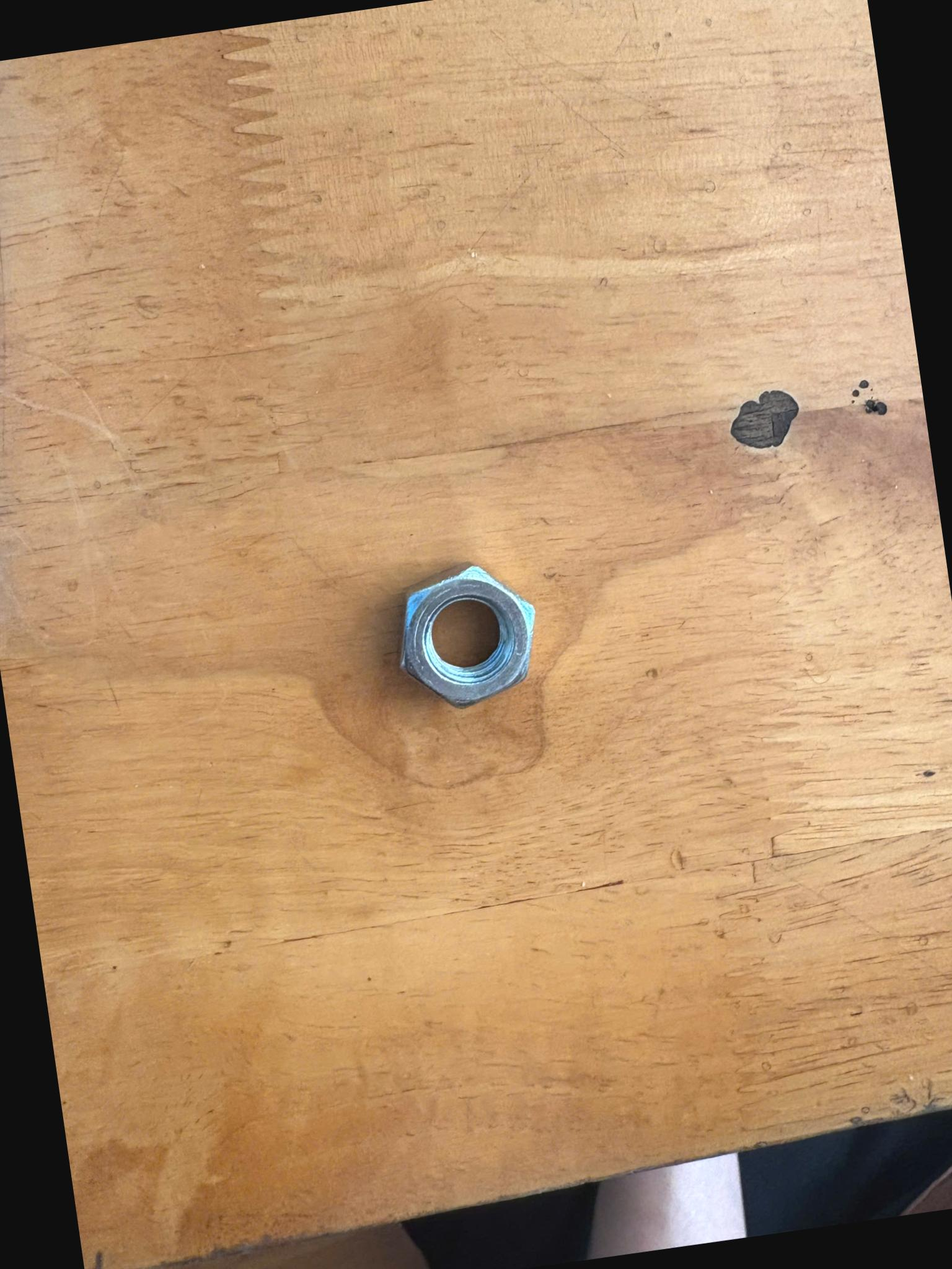nut: (375, 536, 566, 743)
